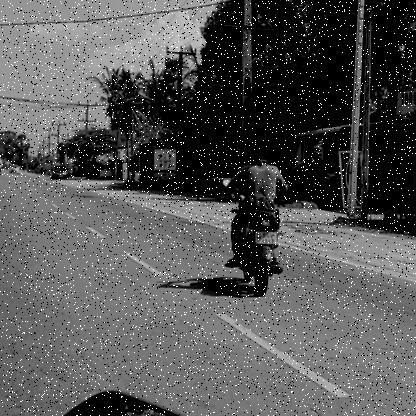motorcycle: (223, 208, 289, 302)
